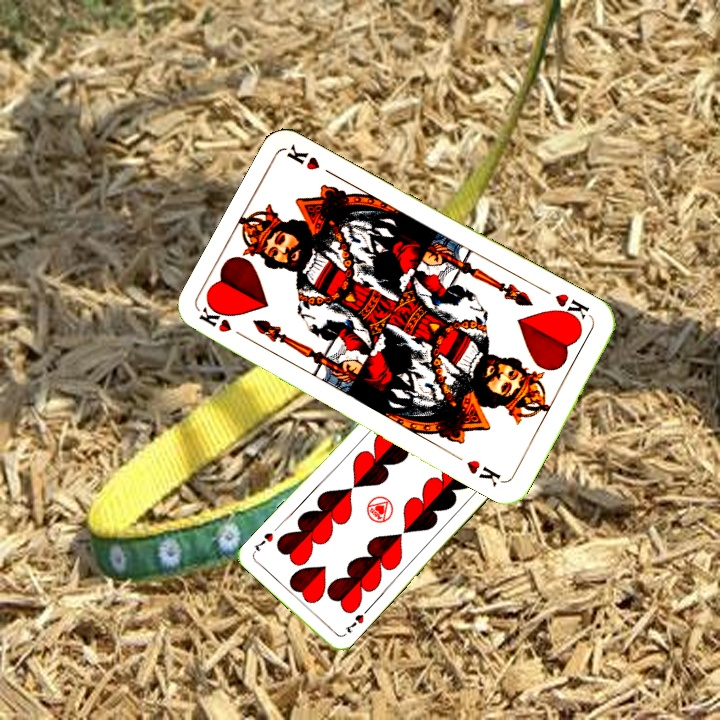H7: (341, 610, 367, 636)
HK: (195, 303, 252, 343), (550, 289, 595, 327)
